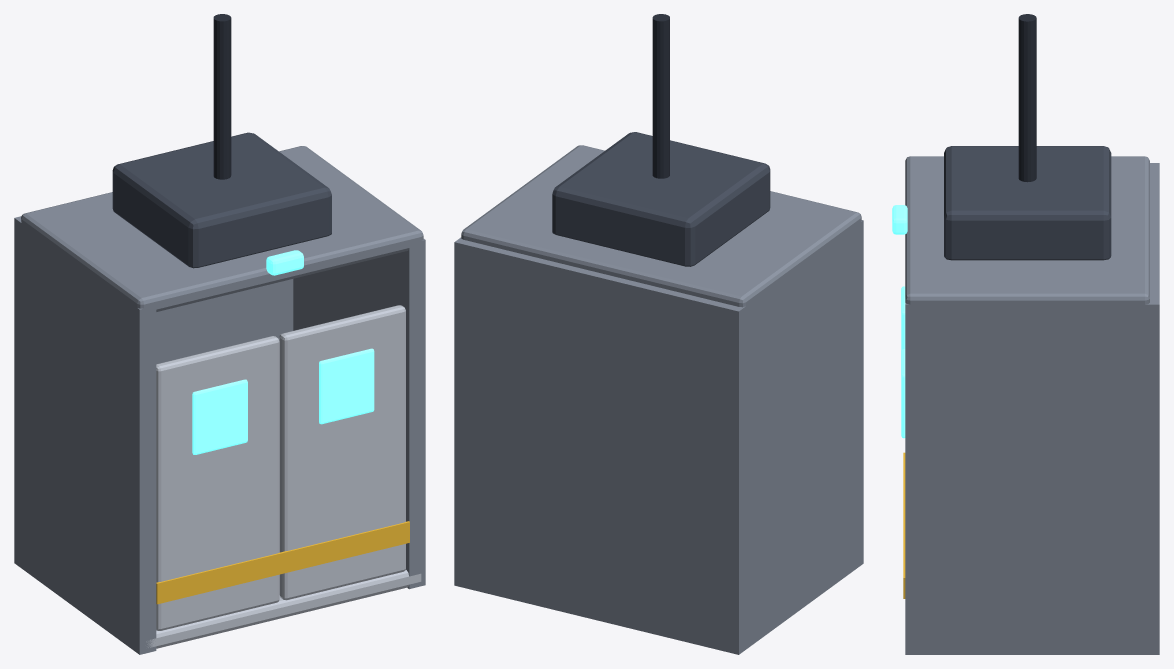
File: elevator_cabin.glb
3 views of the same model, side by side, from view 1: azimuth 30°, elevation 25°; view 2: azimuth 150°, elevation 25°; view 3: azimuth 270°, elevation 25° (orthographic). The views are drawn at different scales.
Parts seen in each view (by area): view 1: elevator_cabin; view 2: elevator_cabin; view 3: elevator_cabin.
Part boxes in pixels (left/top/right/bottom): elevator_cabin: left=14, top=14, right=425, bottom=654; elevator_cabin: left=454, top=14, right=863, bottom=654; elevator_cabin: left=892, top=14, right=1159, bottom=654.
Bounding box in the file's own units: 2.6 × 4.85 × 2.08.
